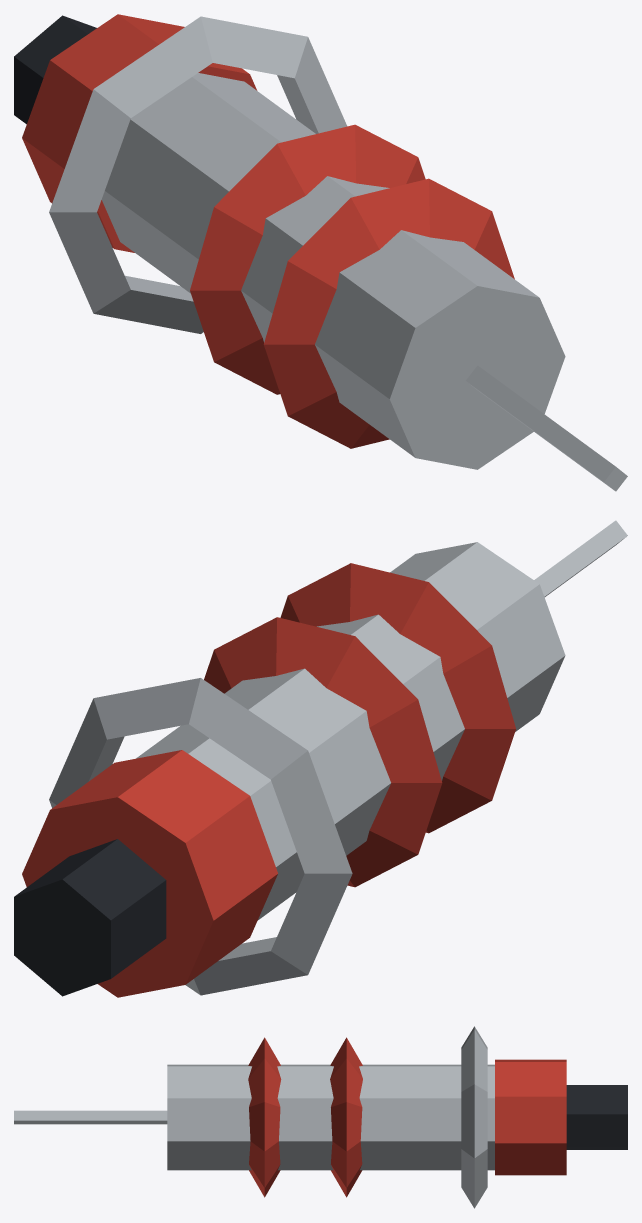
Rendered from stim-strength.glb.
3 views of the same model, one above another, from view 1: azimuth 30°, elevation 25°; view 2: azimuth 150°, elevation 25°; view 3: azimuth 270°, elevation 25° (orthographic). The views are drawn at different scales.
Visible parts, largest first — view 1: m; view 2: m; view 3: m.
Part boxes in pixels (bbox=[...]): m: bbox=[14, 14, 627, 491]; m: bbox=[14, 520, 627, 997]; m: bbox=[14, 1026, 627, 1208].
Size of the model in its own units: 0.0283 by 0.0283 by 0.0893.
